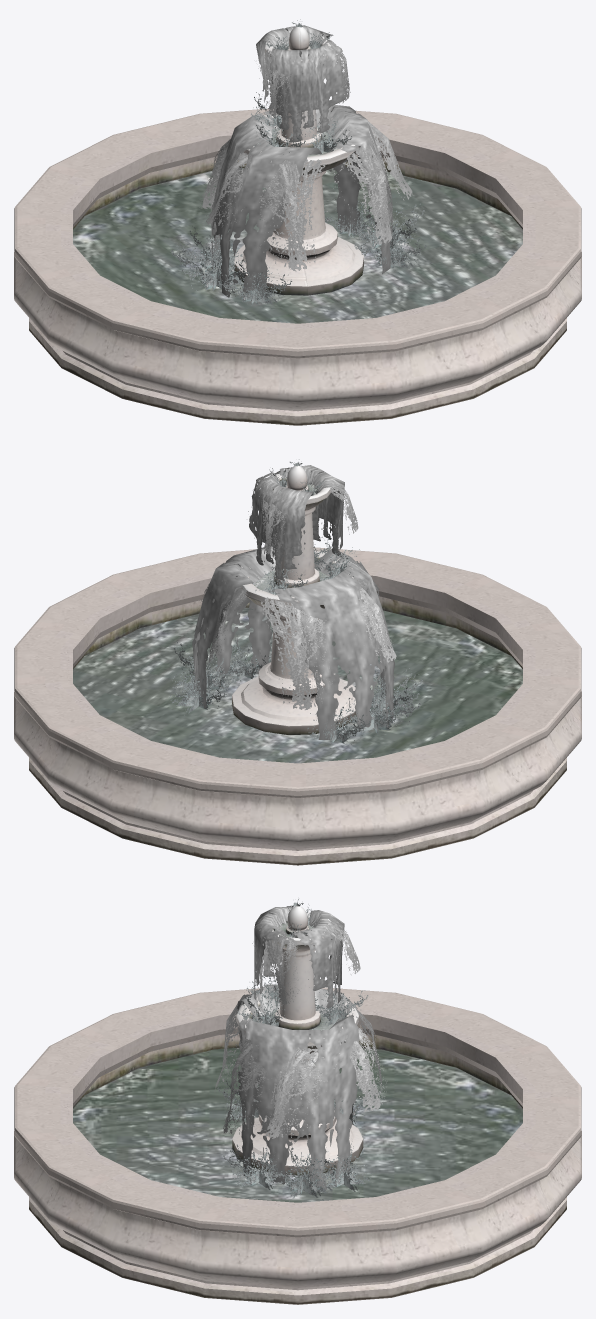
The model's file is fountain.glb.
The picture shows the model from 3 angles, top to bottom: view 1: azimuth 30°, elevation 25°; view 2: azimuth 150°, elevation 25°; view 3: azimuth 270°, elevation 25°; orthographic projection.
Parts seen in each view (by area): view 1: Object002_Material #2_0, Object002_Material #3_0, Object002_Material #23_0, Object006_Material #49_0, Object005_Material #49_0, Plane001, Plane009, Plane007, Plane008, Plane006, Object004_Material #49_0, Plane010 (+3 smaller); view 2: Object002_Material #2_0, Object002_Material #3_0, Object002_Material #23_0, Plane001, Plane009, Plane005, Plane007, Plane010, Object008_Material #49_0, Object003_Material #49_0, Plane006, Plane008; view 3: Object002_Material #2_0, Object002_Material #3_0, Object002_Material #23_0, Object004_Material #49_0, Object003_Material #49_0, Plane007, Object005_Material #49_0, Object009_Material #49_0, Plane006, Plane005, Plane014, Object006_Material #49_0 (+1 smaller).
Part boxes in pixels (x1,y1,x2,y2): Object002_Material #2_0: [14, 108, 581, 425]; Object002_Material #3_0: [73, 168, 522, 323]; Object002_Material #23_0: [211, 25, 393, 297]; Object006_Material #49_0: [249, 151, 344, 271]; Object005_Material #49_0: [332, 144, 393, 244]; Plane001: [199, 139, 251, 226]; Plane009: [171, 243, 247, 296]; Plane007: [351, 202, 424, 248]; Plane008: [218, 265, 292, 305]; Plane006: [354, 228, 426, 269]; Object004_Material #49_0: [351, 121, 412, 200]; Plane010: [176, 226, 242, 270]; Object002_Material #2_0: [14, 547, 581, 865]; Object002_Material #3_0: [73, 607, 522, 763]; Object002_Material #23_0: [192, 465, 394, 739]; Plane001: [259, 588, 396, 710]; Plane009: [342, 676, 420, 737]; Plane005: [168, 663, 235, 715]; Plane007: [172, 640, 251, 694]; Plane010: [306, 706, 370, 744]; Object008_Material #49_0: [256, 487, 286, 554]; Object003_Material #49_0: [208, 569, 249, 663]; Plane006: [214, 634, 272, 684]; Plane008: [370, 667, 422, 712]; Object002_Material #2_0: [14, 987, 581, 1304]; Object002_Material #3_0: [73, 1047, 522, 1202]; Object002_Material #23_0: [232, 905, 363, 1189]; Object004_Material #49_0: [261, 1047, 340, 1138]; Object003_Material #49_0: [324, 1025, 387, 1111]; Plane007: [259, 1139, 336, 1201]; Object005_Material #49_0: [223, 1026, 272, 1134]; Object009_Material #49_0: [265, 931, 299, 1004]; Plane006: [223, 1143, 287, 1189]; Plane005: [309, 1141, 373, 1193]; Plane014: [314, 990, 368, 1026]; Object006_Material #49_0: [214, 994, 249, 1092].
Size of the model in its own units: 5 by 2.79 by 4.92.
5 materials, 5 textured.
